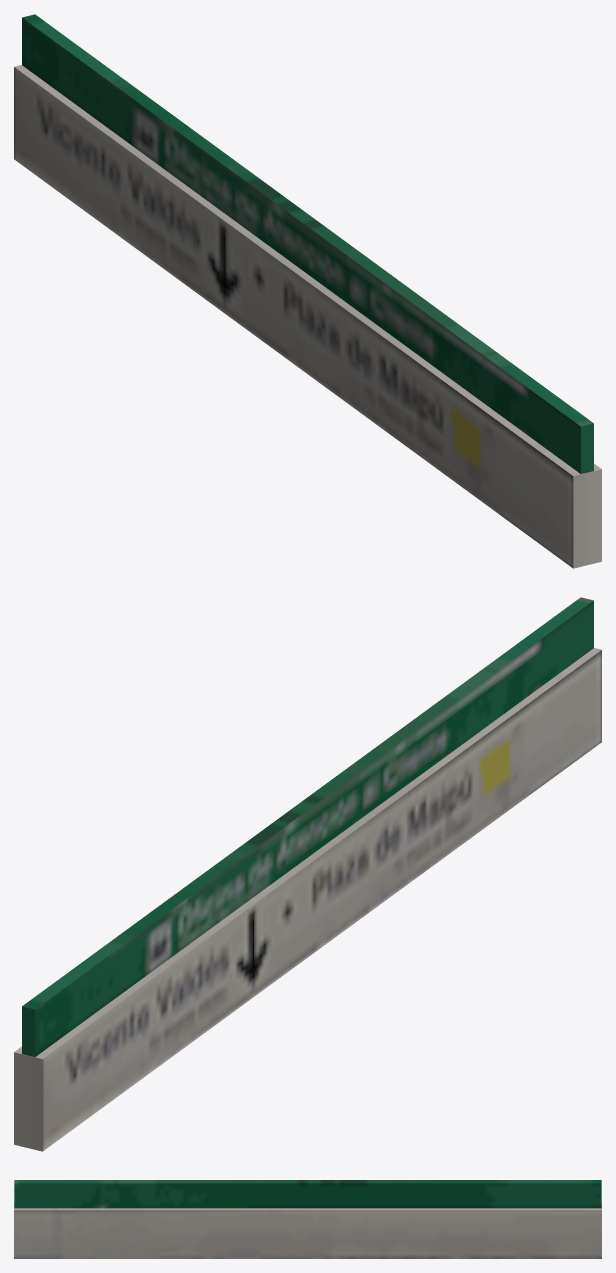
The model's file is direccionflechabajo.fbx.
3 renders of one model, top to bottom at view 1: azimuth 30°, elevation 25°; view 2: azimuth 150°, elevation 25°; view 3: azimuth 270°, elevation 25°, orthographic. The views are drawn at different scales.
Visible parts, largest first — view 1: Cube.048; view 2: Cube.048; view 3: Cube.048.
Part boxes in pixels (x1,y1,x2,y2): Cube.048: (14,14,601,568); Cube.048: (14,597,601,1151); Cube.048: (14,1180,601,1258).
Bounding box in the file's own units: 7.92 × 36.96 × 268.
